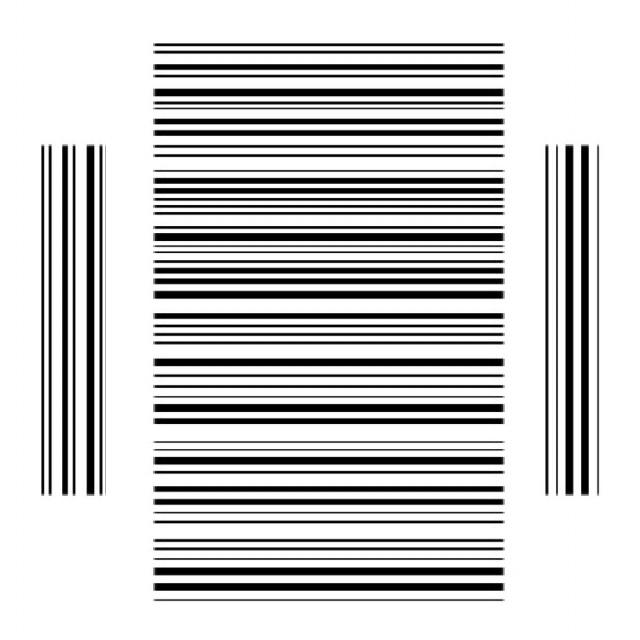Barkod: (69, 71, 576, 578)
